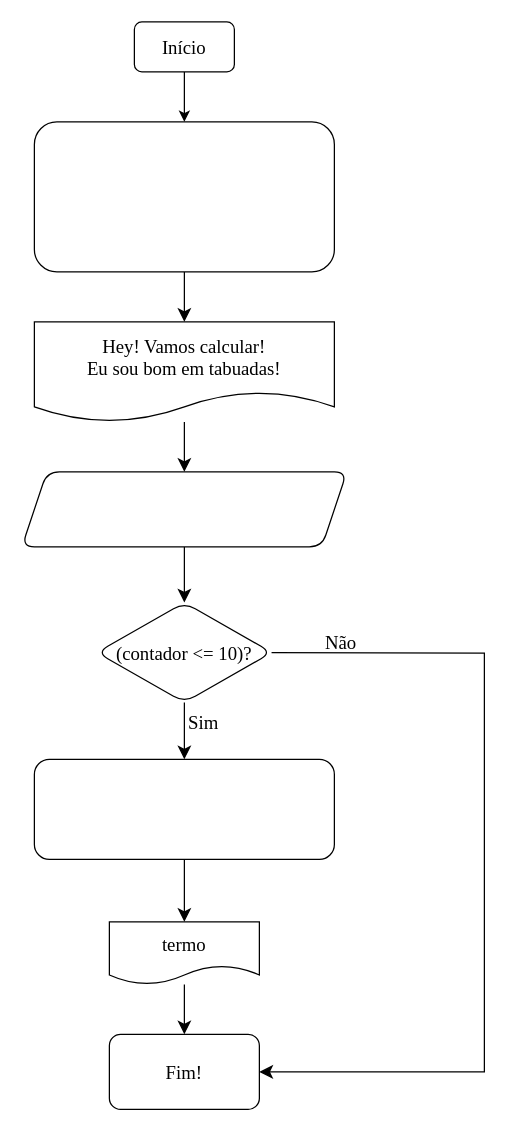
This 519x1131 diagram has some shape labels left out. The shapes that lost their labels are listed below. From the top down, each one's centre as x and y in pixels, then its label:
[183,196]: int numeroTab = 0 termo = 0 contador = 1
[184,509]: Digite o número que deseja tabular: (numeroTab)
[183,808]: contador = contador + 1 termo = termo + numeroTab
